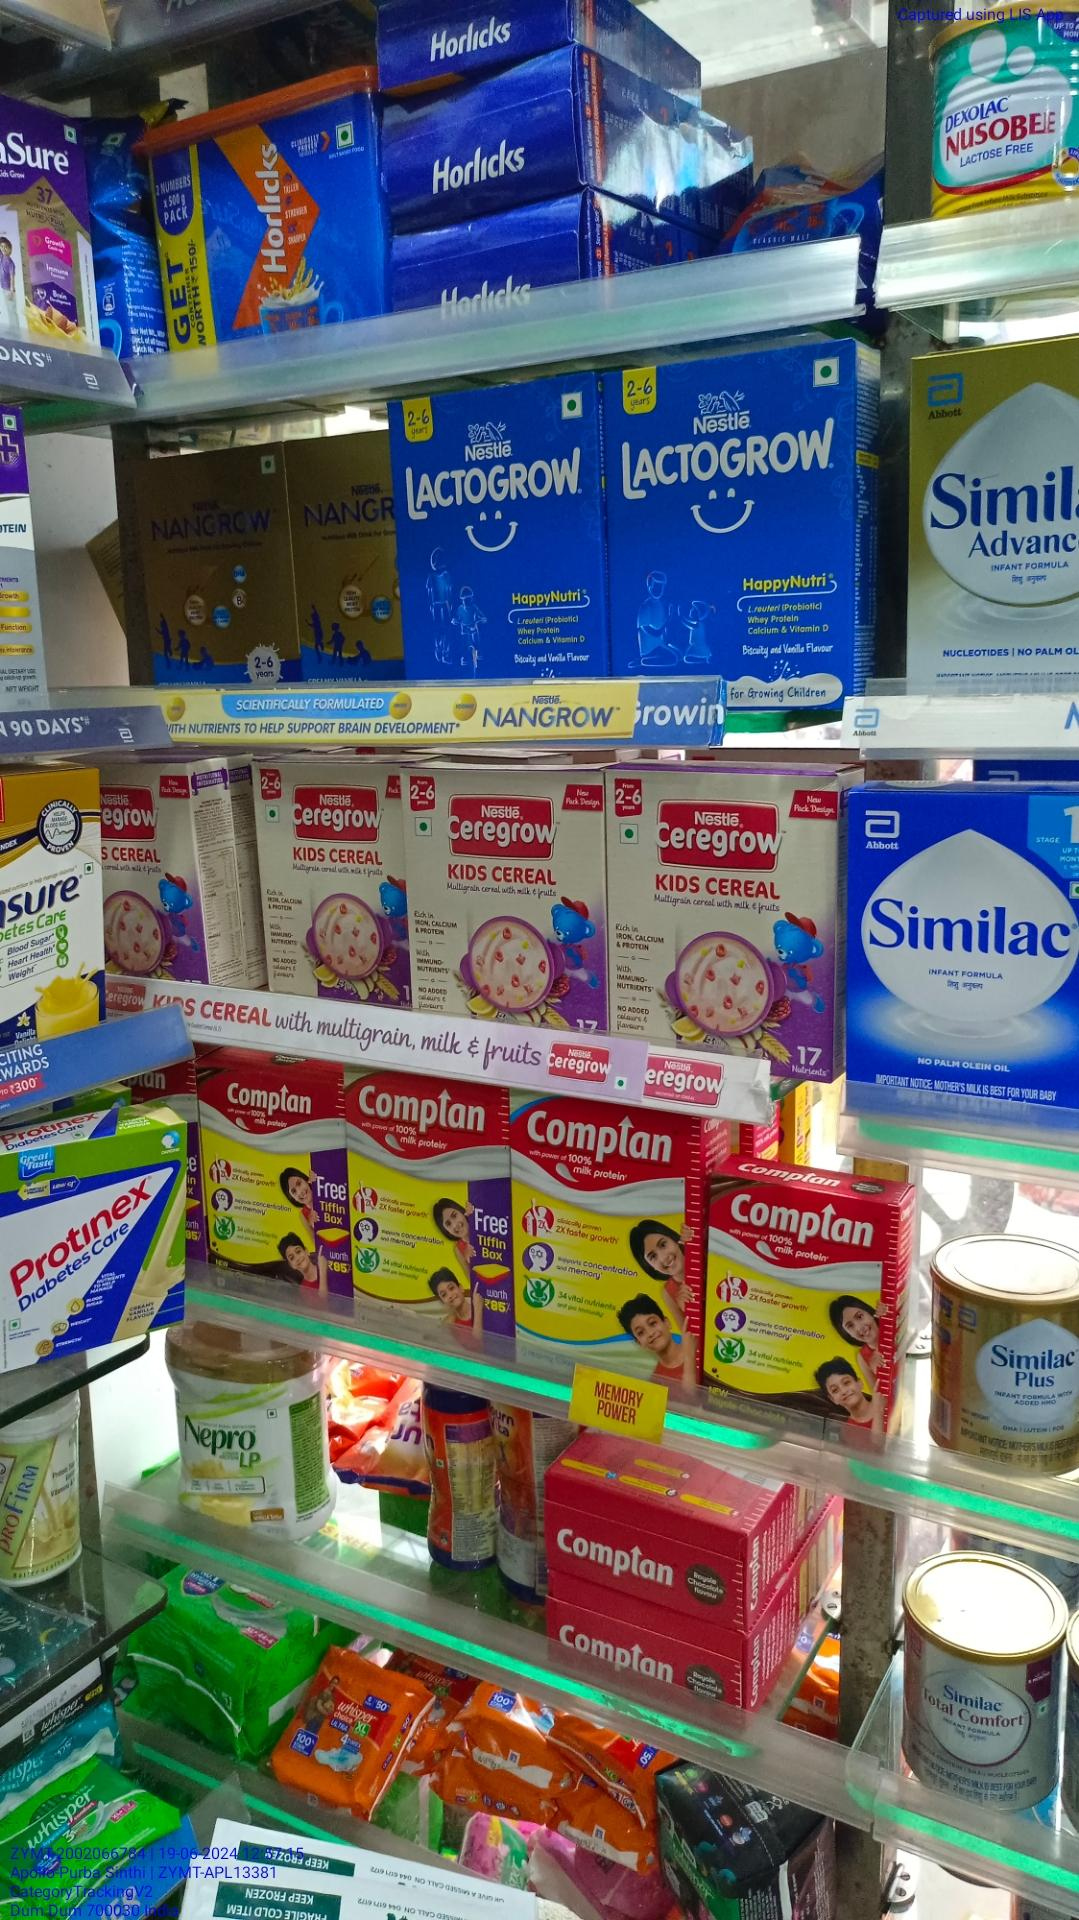HORLICK_MALT_1_KG_CONTAINER: (152, 105, 377, 344)
